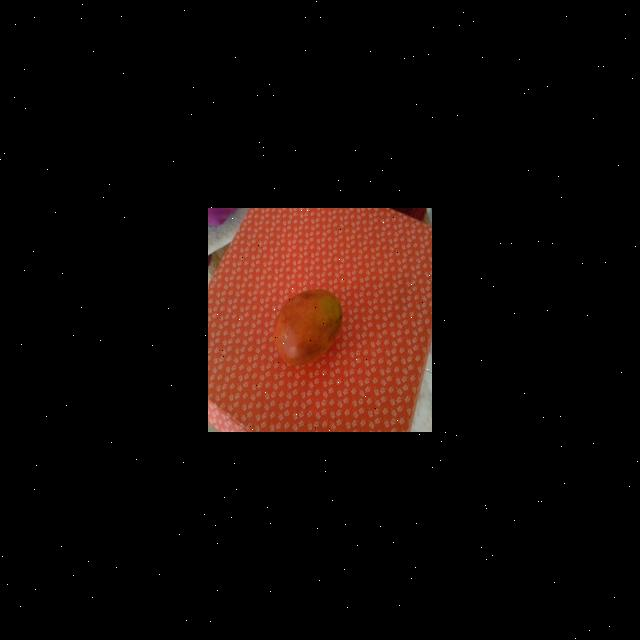Mango: (209, 208, 432, 431), (273, 288, 344, 367)
